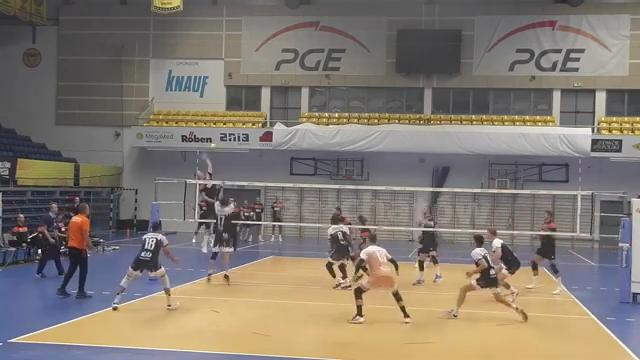attacco: (192, 144, 217, 252)
muro: (204, 181, 242, 287)
